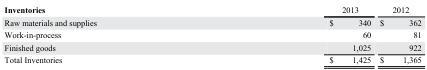table: (3, 4, 420, 64)
table column: (3, 4, 212, 64), (212, 4, 374, 64), (374, 4, 420, 64)
table column header: (3, 4, 420, 15)
table row: (3, 15, 420, 28), (3, 40, 420, 53), (3, 28, 420, 40), (3, 4, 420, 15), (3, 53, 420, 64)
